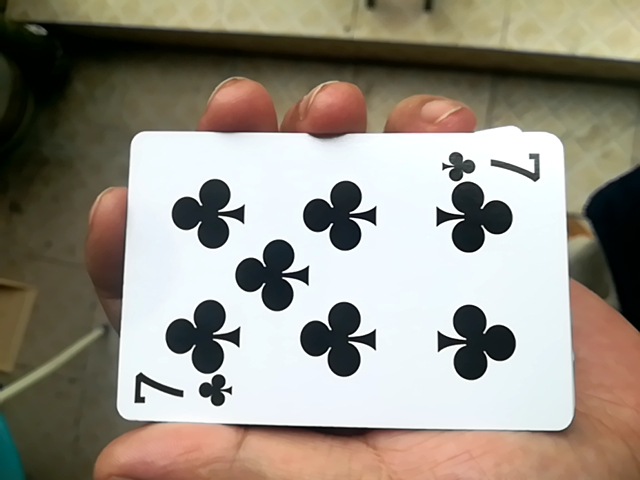mh 7: (103, 127, 564, 440)
